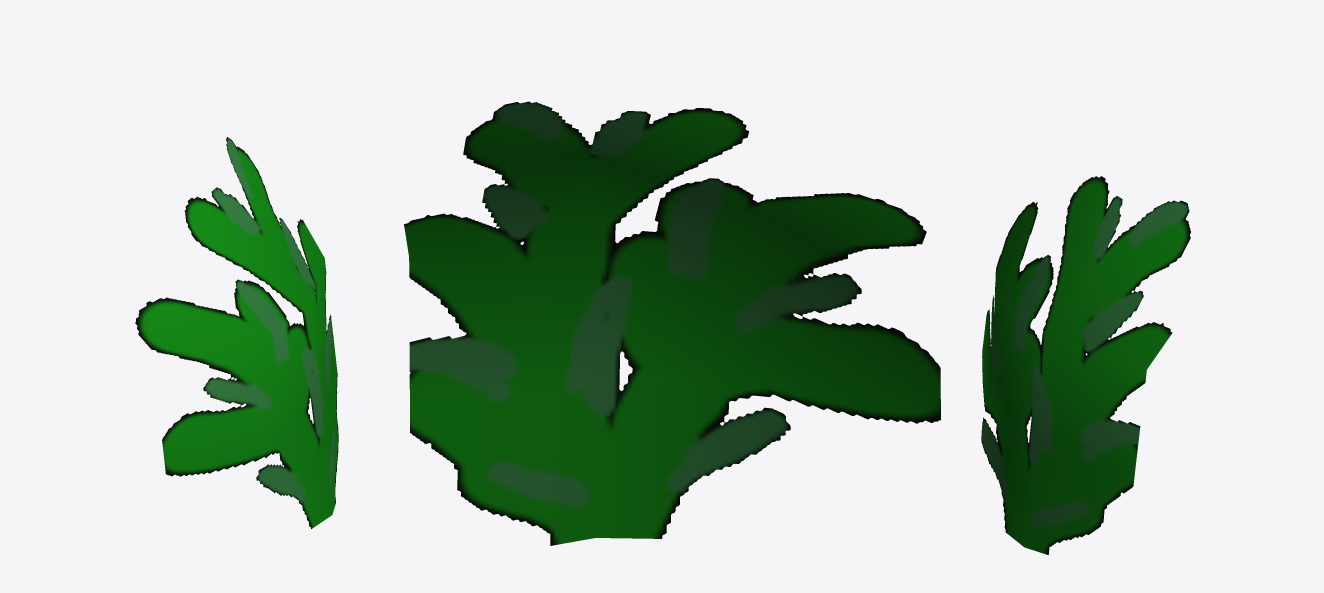
Rendered from Bush01.fbx.
3 views of the same model, side by side, from view 1: azimuth 30°, elevation 25°; view 2: azimuth 150°, elevation 25°; view 3: azimuth 270°, elevation 25° (orthographic). The views are drawn at different scales.
Visible parts, largest first — view 1: Cube.015; view 2: Cube.015; view 3: Cube.015.
Boxes of the visible parts, bbox=[...] form: Cube.015: bbox=[135, 137, 338, 528]; Cube.015: bbox=[404, 101, 940, 545]; Cube.015: bbox=[981, 176, 1190, 554].
Size of the model in its own units: 0.2017 by 0.2441 by 0.1844.
1 material, 1 textured.
